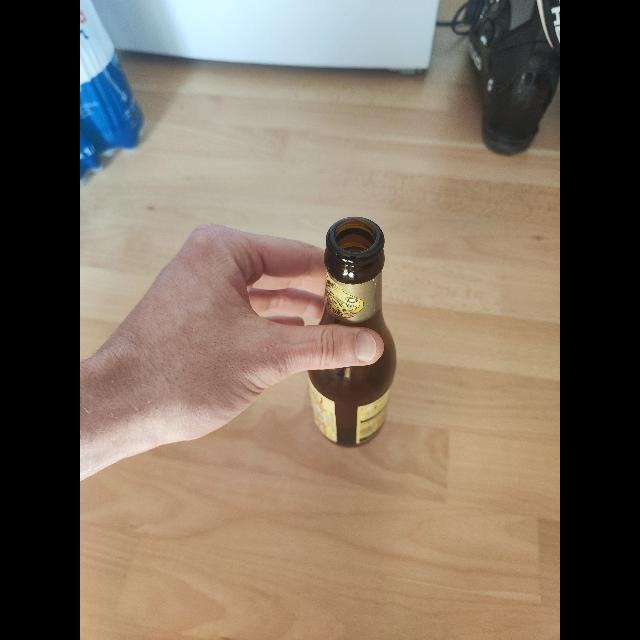Glass: (306, 214, 399, 452)
